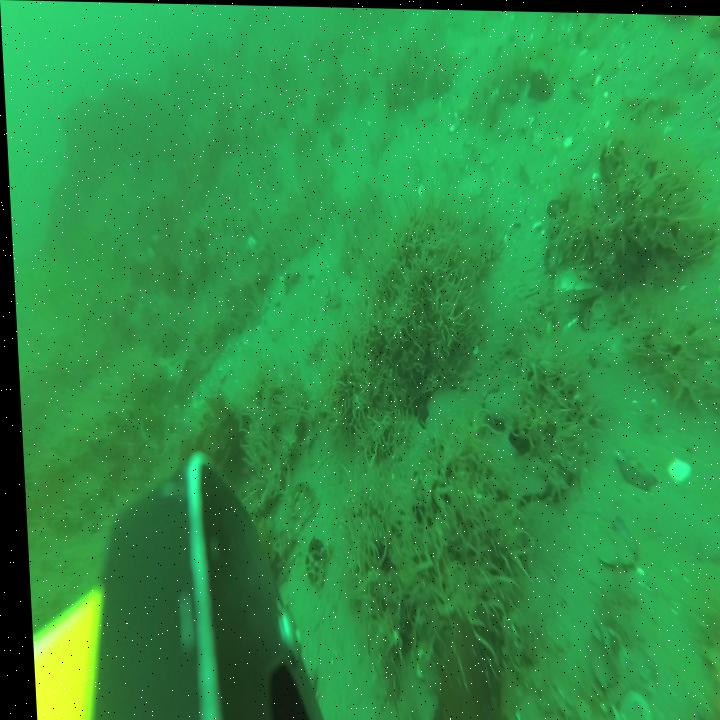scallop: (604, 682, 642, 720), (567, 46, 605, 75), (456, 169, 489, 193), (415, 93, 439, 119)
